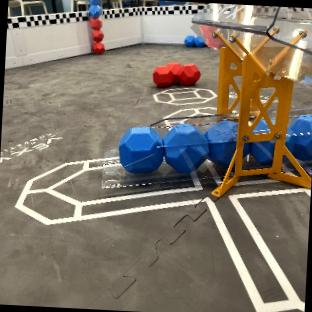Goal: (193, 2, 312, 58)
V5_BLUE: (206, 119, 237, 164), (185, 35, 204, 46)
V5_RED: (152, 62, 199, 87), (91, 17, 103, 52)
